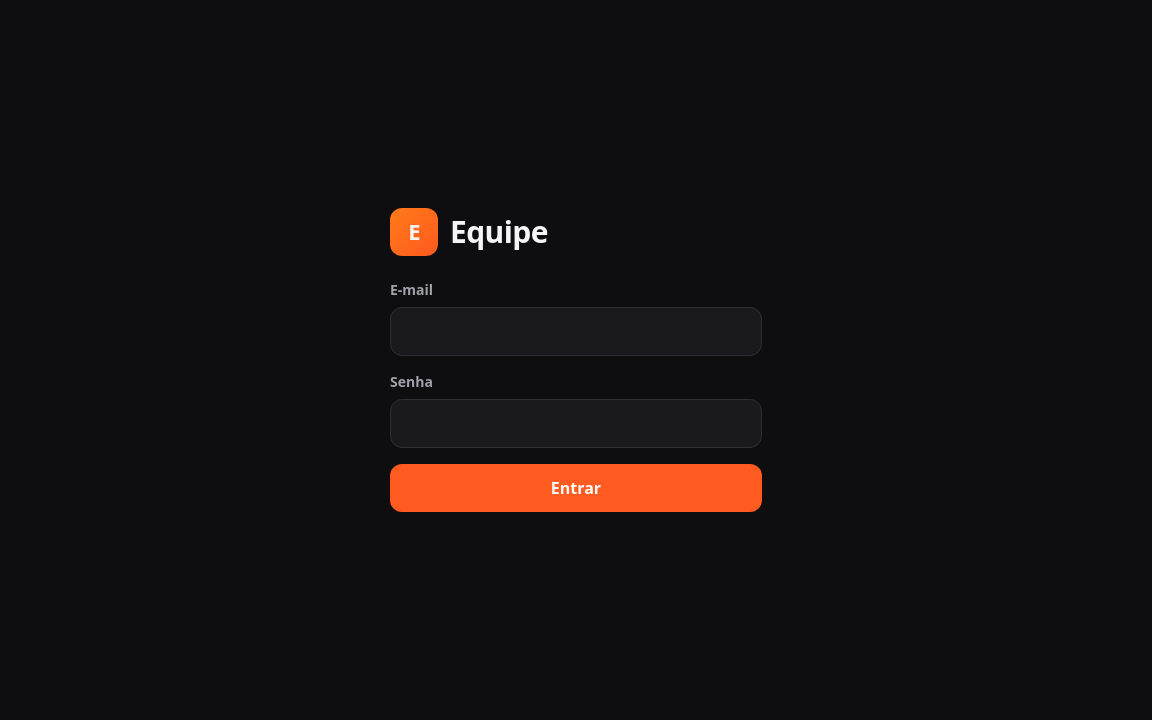
Test: App da equipe › login certo vai para o início
This screenshot has width=1152, height=720.
Type "ana@demo.com" into the field labelled "E-mail" at coordinates (576, 332), box [390,307,762,356]
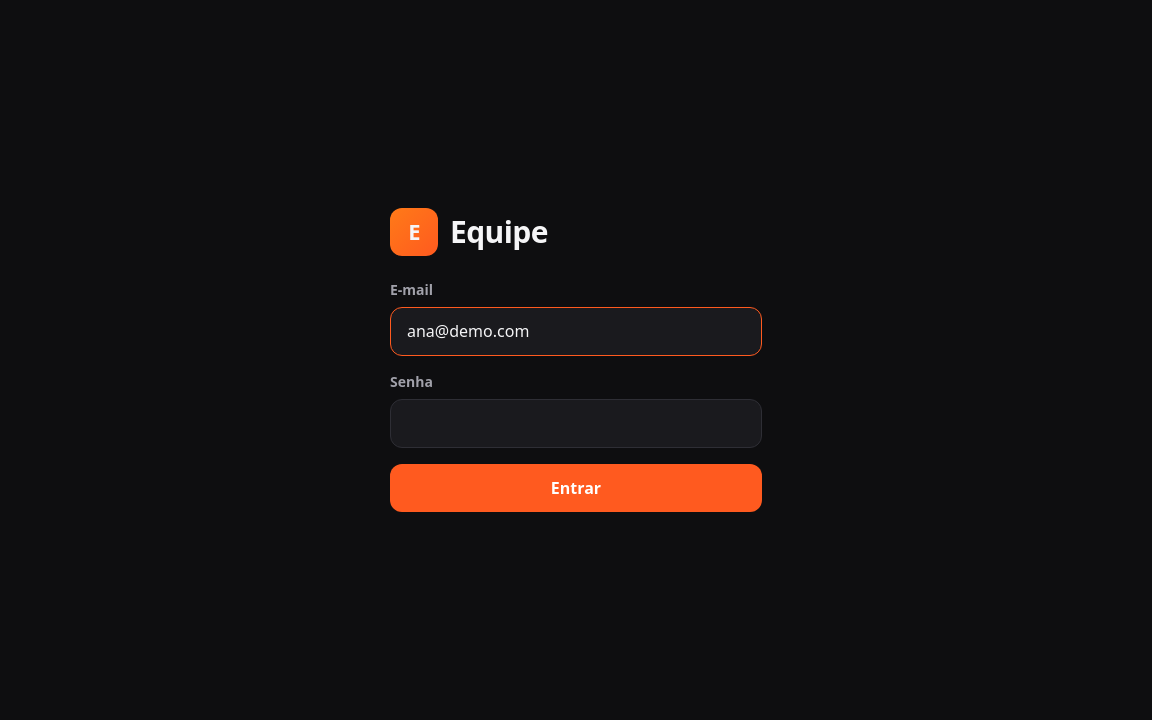
Type "demo1234" into the password field labelled "Senha" at coordinates (576, 424), box [390,399,762,448]
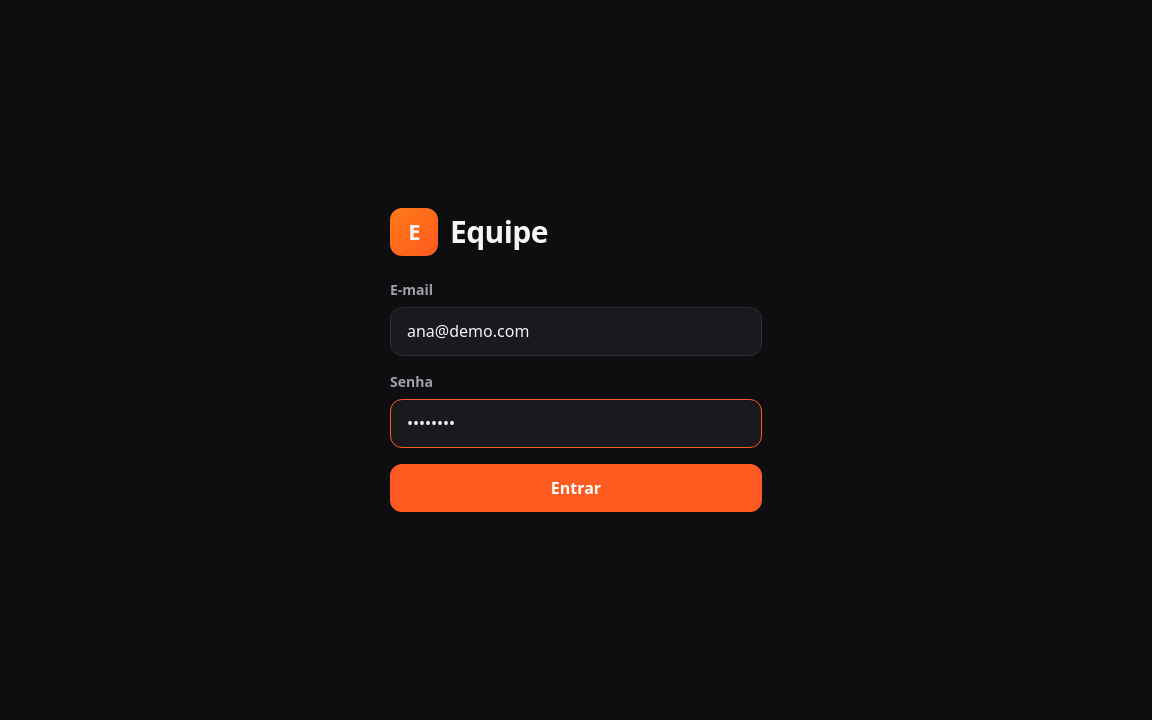
Click the button "Entrar" at coordinates (576, 488), box [390,464,762,512]
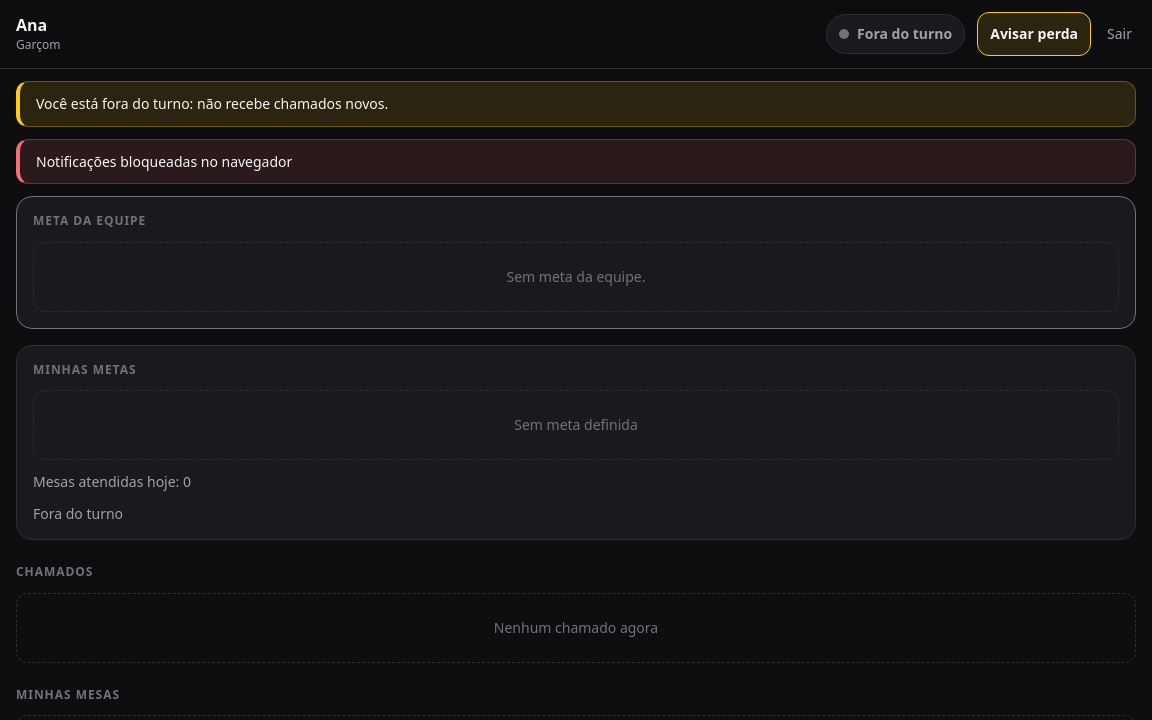
Now the text "Ana" is shown, box [16,14,47,36]
